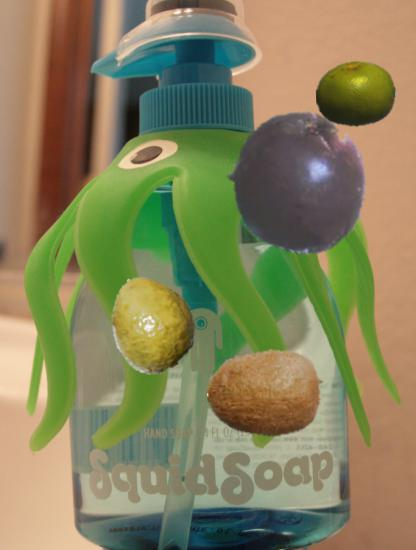Guava: (102, 274, 200, 372)
Kiwi: (207, 335, 325, 453)
Passion: (228, 110, 373, 255)
Pomelo: (316, 54, 397, 135)
